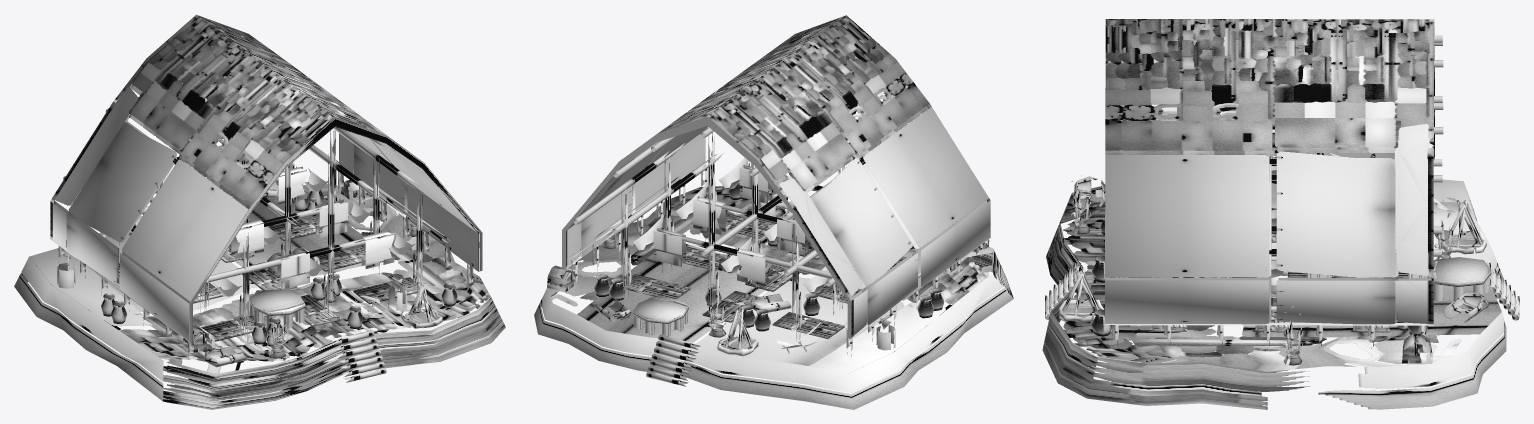
Rendered from war_house.dae.
3 views of the same model, side by side, from view 1: azimuth 30°, elevation 25°; view 2: azimuth 150°, elevation 25°; view 3: azimuth 270°, elevation 25° (orthographic). The views are drawn at different scales.
Parts seen in each view (by area): view 1: palace; view 2: palace; view 3: palace.
Part boxes in pixels (x1,y1,x2,y2): palace: (14, 14, 505, 409); palace: (534, 15, 1013, 409); palace: (1042, 19, 1519, 409).
Bounding box in the file's own units: 27.39 × 26.7 × 17.92.
1 material, 1 textured.
